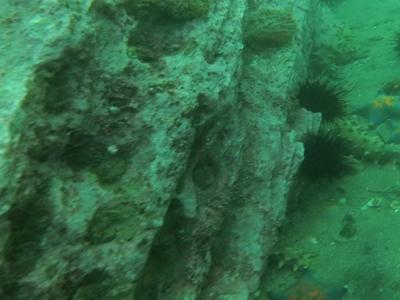holothurian: (331, 118, 397, 166), (263, 236, 317, 274)
urchin: (298, 120, 357, 187), (298, 78, 343, 115)
